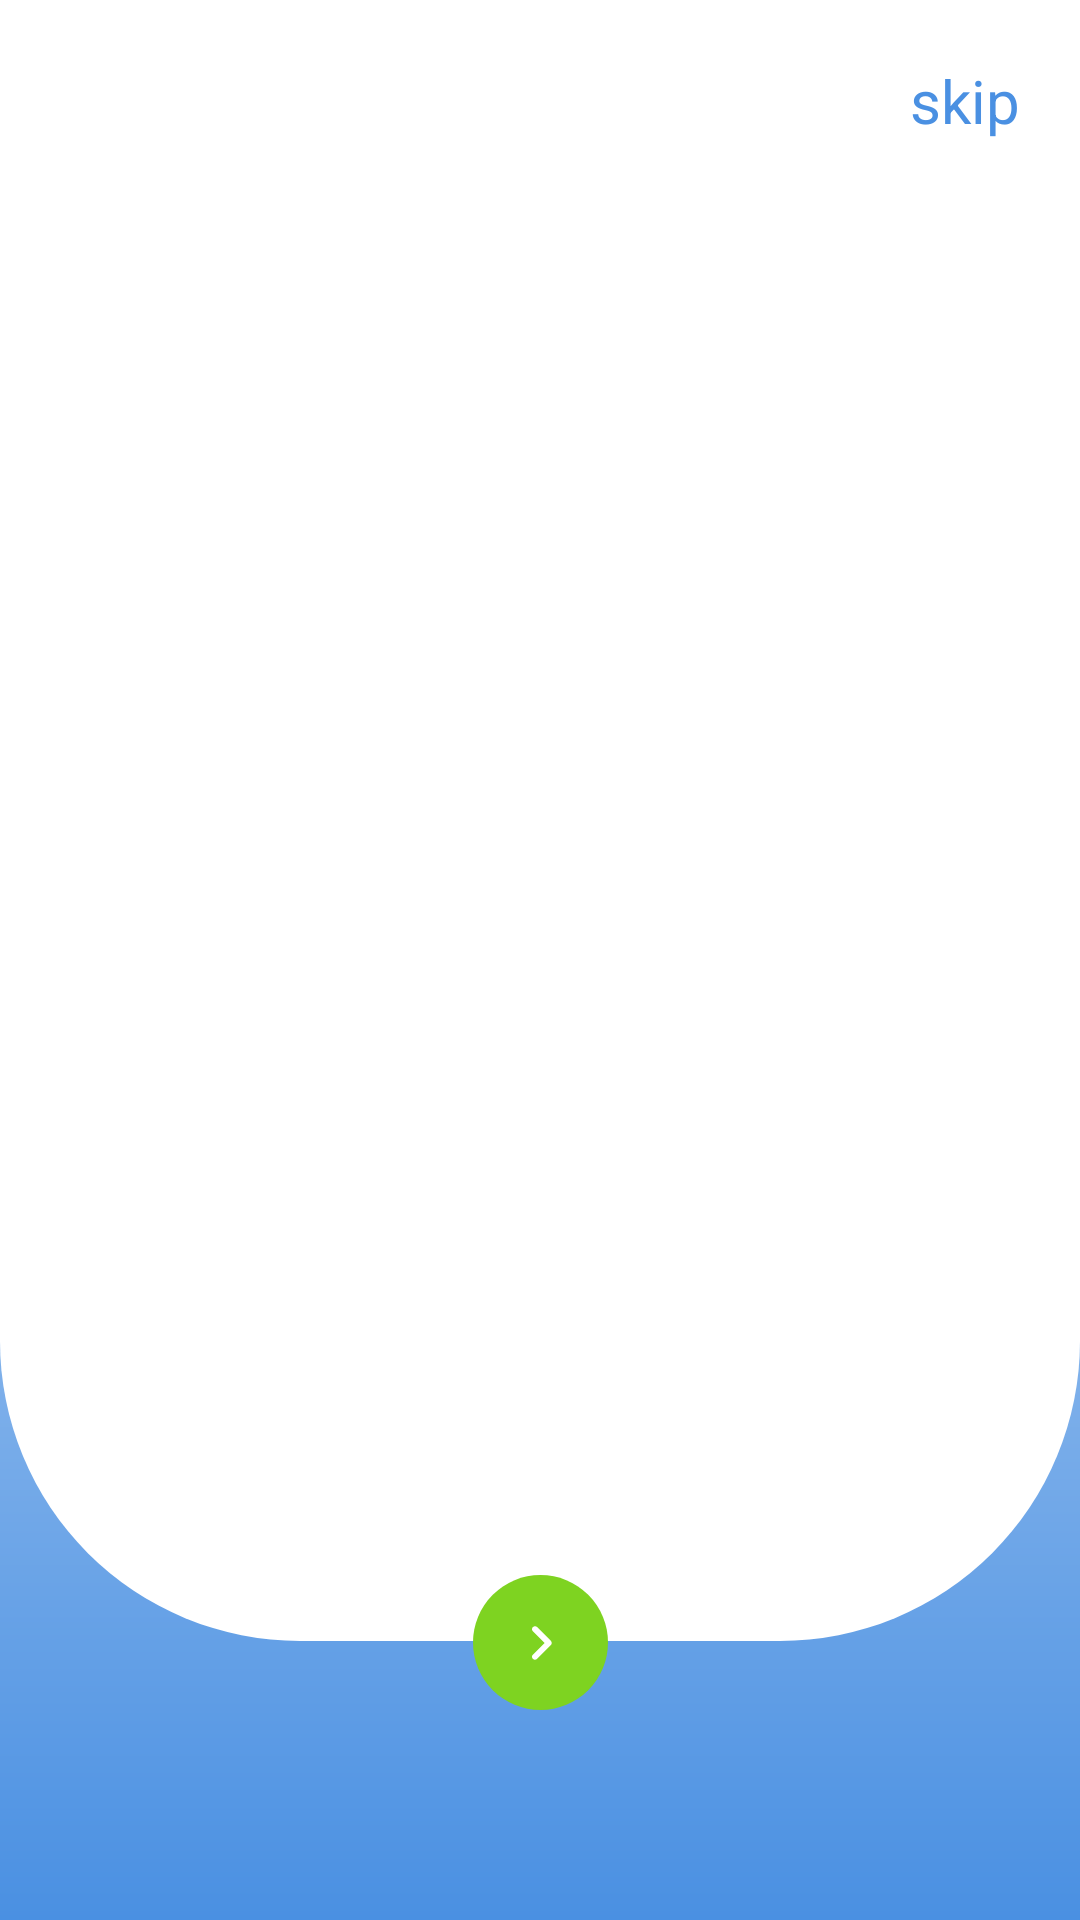

Screen size 1080*1920. Icon name, then its center in pixels as [x,y]:
right: [540,1642]
